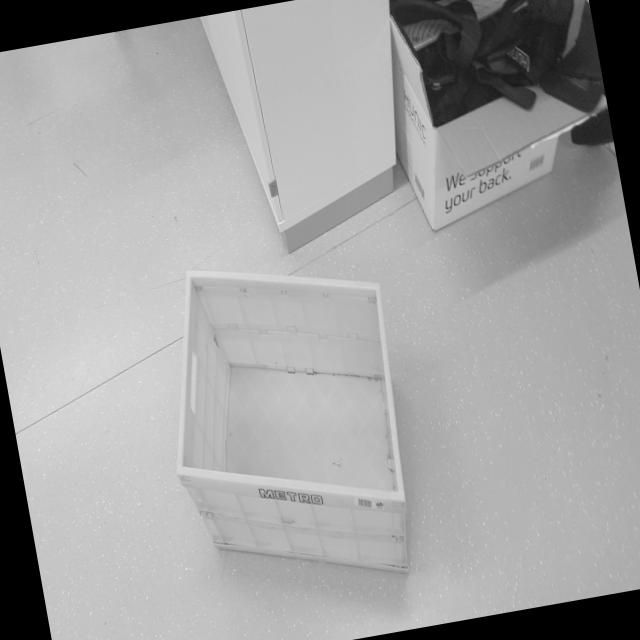box: (136, 228, 439, 626)
